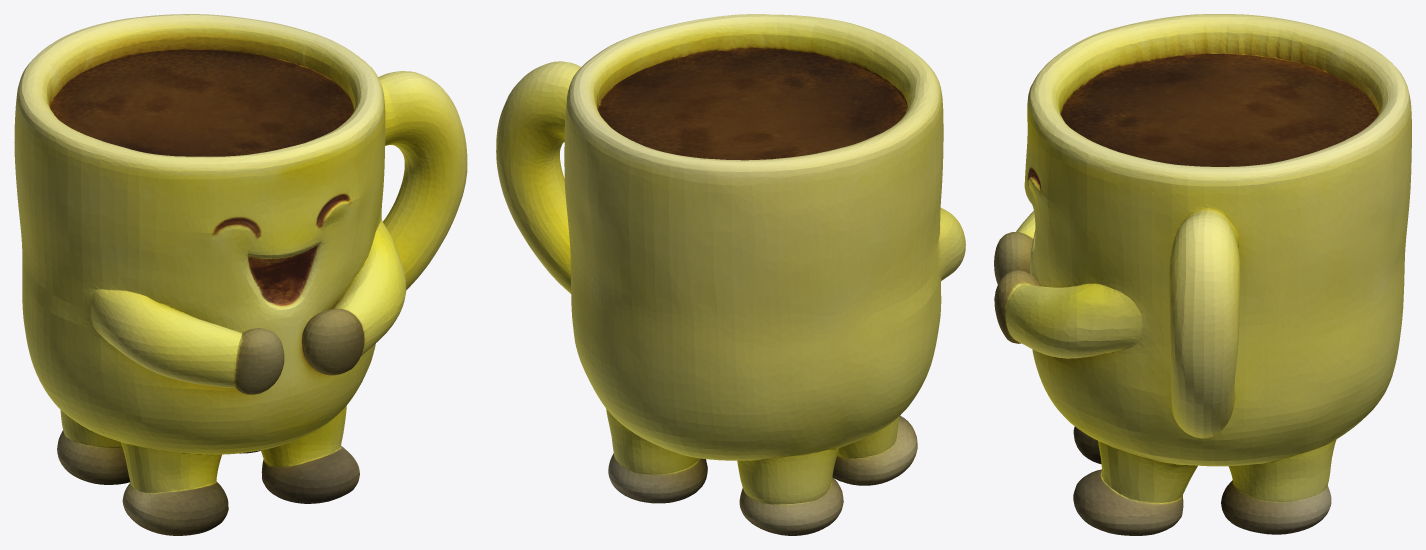
File: tea-cup.glb
The picture shows the model from 3 angles, left to right: view 1: azimuth 30°, elevation 25°; view 2: azimuth 150°, elevation 25°; view 3: azimuth 270°, elevation 25°; orthographic projection. The views are drawn at different scales.
Parts seen in each view (by area): view 1: geometry_0; view 2: geometry_0; view 3: geometry_0.
Boxes of the visible parts, x1,y1,x2,y2 form: geometry_0: (14,14,467,535); geometry_0: (496,14,965,535); geometry_0: (994,14,1411,535).
Size of the model in its own units: 0.0864 by 0.078 by 0.0736.
Materials: 1 (1 with a texture image).
